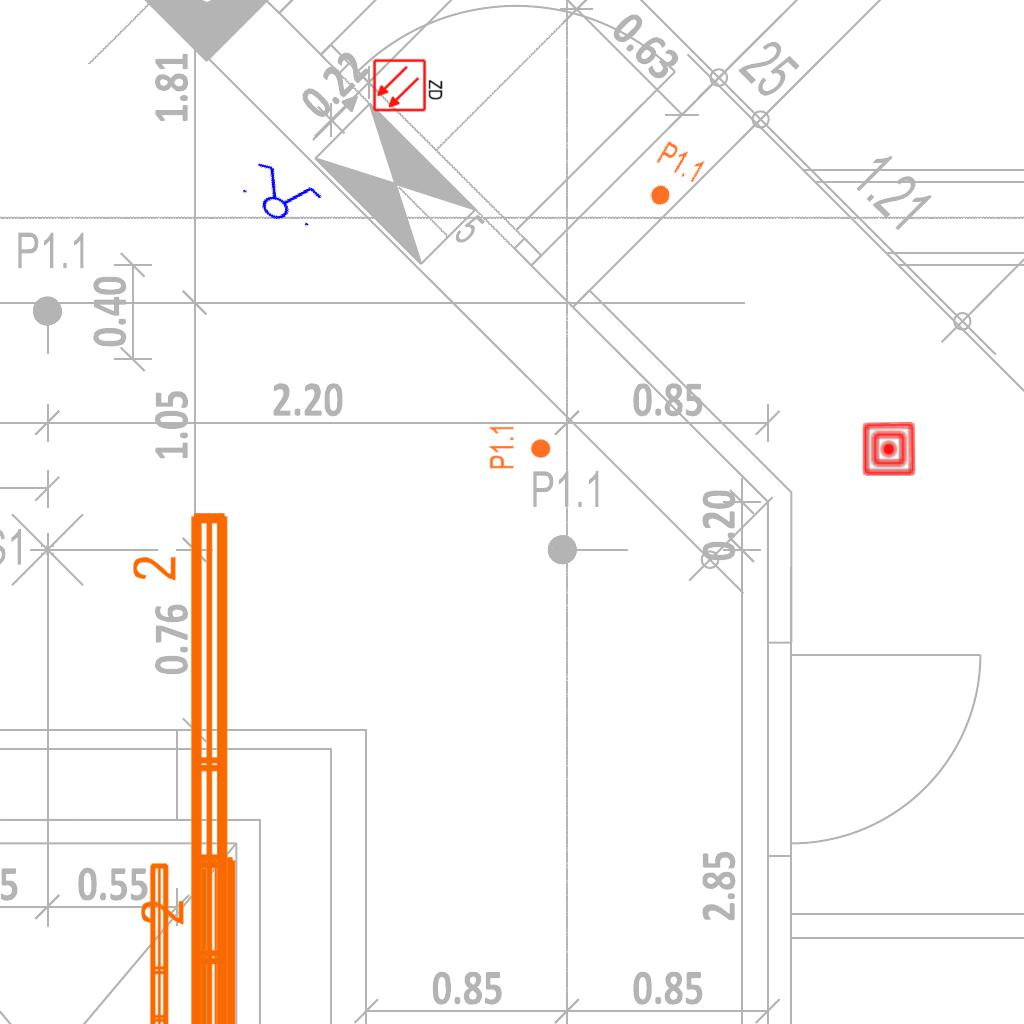Ambulanz_Pendelleuchte_LED: (128, 504, 240, 1024), (136, 848, 248, 1024), (144, 858, 200, 1024)
Downlight_LED_Einbauleuchten_Flur: (636, 138, 708, 218), (488, 424, 552, 470)
NAM-Nichtautomatischer_Melder: (861, 421, 917, 477)
Serienschalter: (232, 155, 330, 237)
ZD_Melder_in_Zwischendecke_mit_Revisionsoeffnung_mind_40_x_40_cm: (372, 56, 446, 113)
